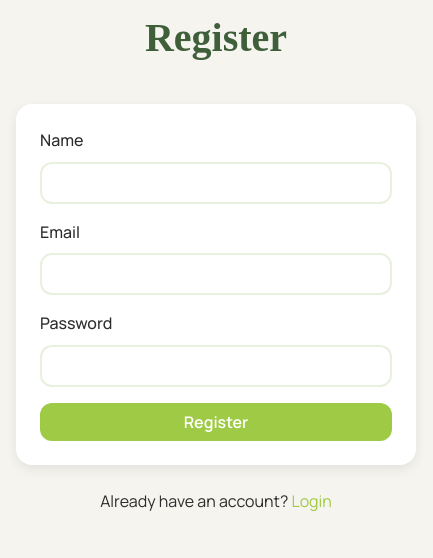
Test: Register Page › shows validation error for short password
The image size is (433, 558).
Type "Test User" into the field labelled "Name".
click(216, 183); type("Test User")  # box [40,162,392,204]
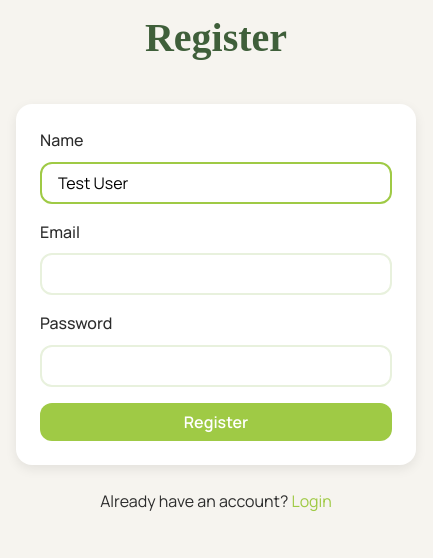
Type "test@example.com" into the field labelled "Email".
click(216, 274); type("test@example.com")  # box [40,253,392,295]
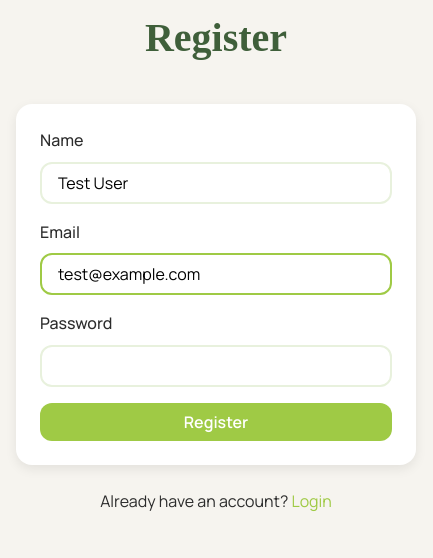
Type "12345" into the password field labelled "Password".
click(216, 366); type("12345")  # box [40,345,392,387]
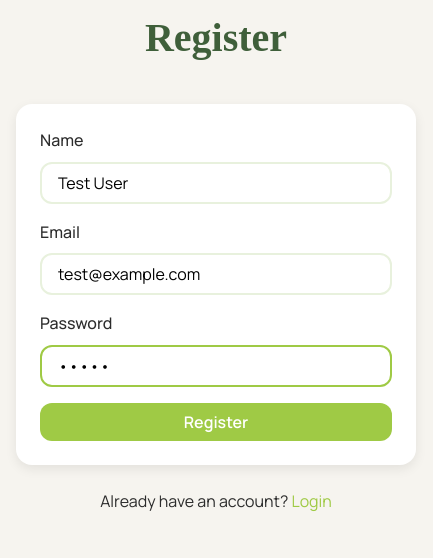
Click the button "Register".
click(216, 422)  # box [40,403,392,441]
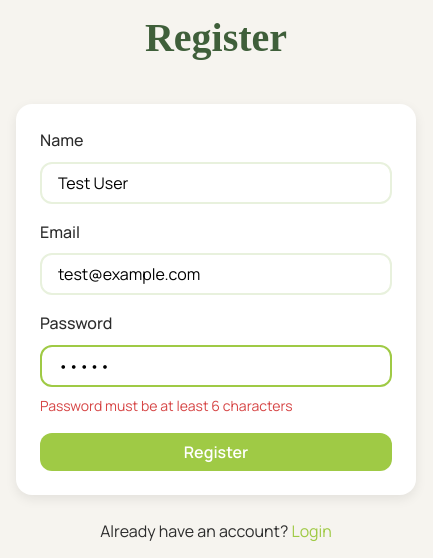
Result: the text "Password must be at least 6 characters" is shown at [40,396,293,415]
